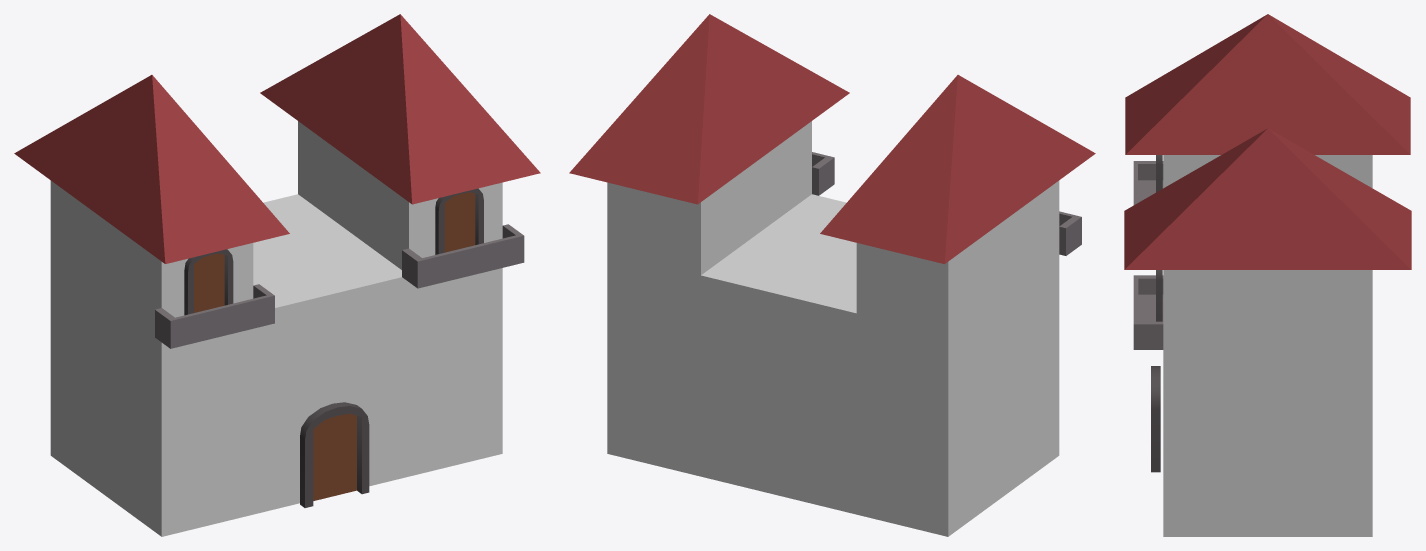
Rendered from CasteloProvisorio.fbx.
3 renders of one model, left to right at view 1: azimuth 30°, elevation 25°; view 2: azimuth 150°, elevation 25°; view 3: azimuth 270°, elevation 25°, orthographic. The views are drawn at different scales.
Visible parts, largest first — view 1: Cube; view 2: Cube; view 3: Cube.
Part boxes in pixels (<box>): Cube: <box>14,14,540,536</box>; Cube: <box>569,14,1095,536</box>; Cube: <box>1124,14,1411,536</box>.
Size of the model in its own units: 2426 by 2538 by 1708.
